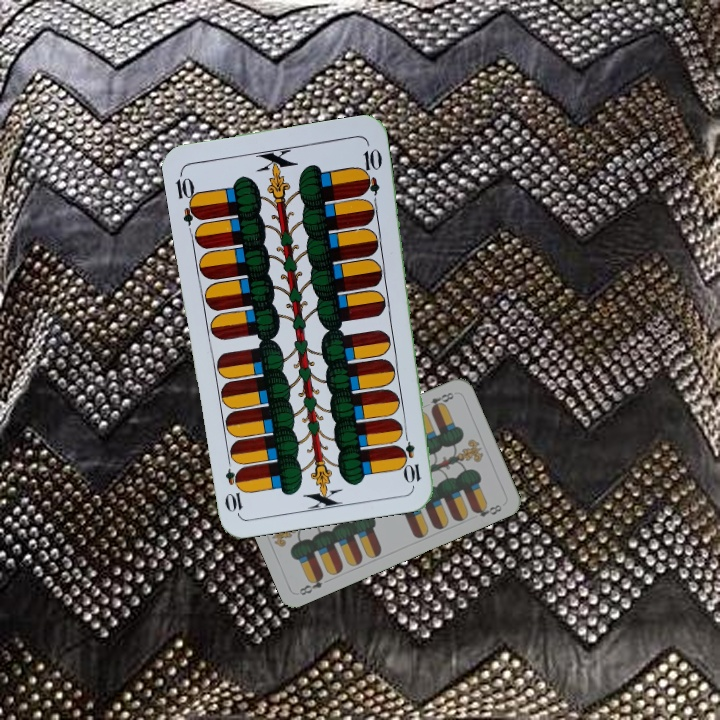E10: (172, 168, 204, 227), (398, 426, 424, 486)
E8: (295, 570, 326, 598), (426, 388, 456, 413)
